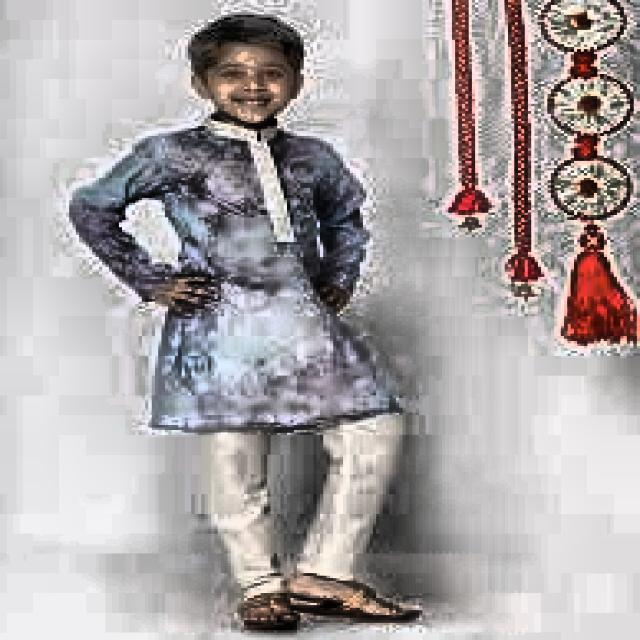Human: (85, 23, 434, 626)
